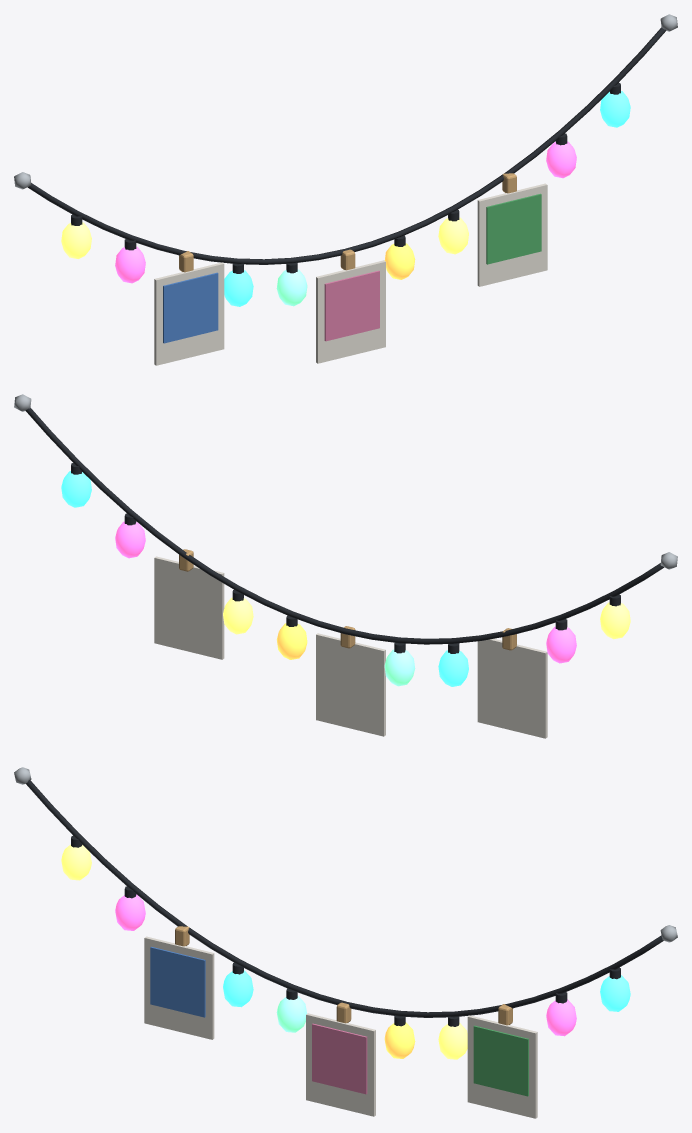
Rendered from varal-luzes.glb.
3 views of the same model, one above another, from view 1: azimuth 30°, elevation 25°; view 2: azimuth 150°, elevation 25°; view 3: azimuth 330°, elevation 25° (orthographic).
Parts seen in each view (by area): view 1: varal-luzes; view 2: varal-luzes; view 3: varal-luzes.
Boxes of the visible parts, x1=… form: varal-luzes: x1=14, y1=14, x2=677, y2=365; varal-luzes: x1=14, y1=394, x2=677, y2=738; varal-luzes: x1=14, y1=767, x2=677, y2=1118.
Size of the model in its own units: 1.94 by 0.725 by 0.08.
